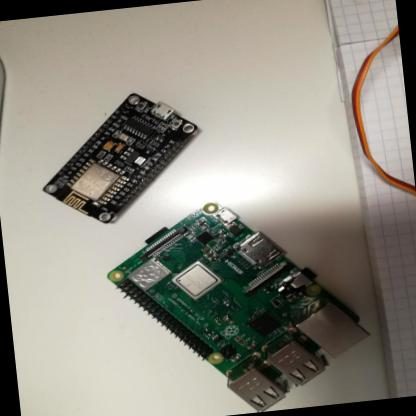ESP8266: (32, 84, 209, 231)
Raspberry_Pi_3: (100, 185, 385, 416)
